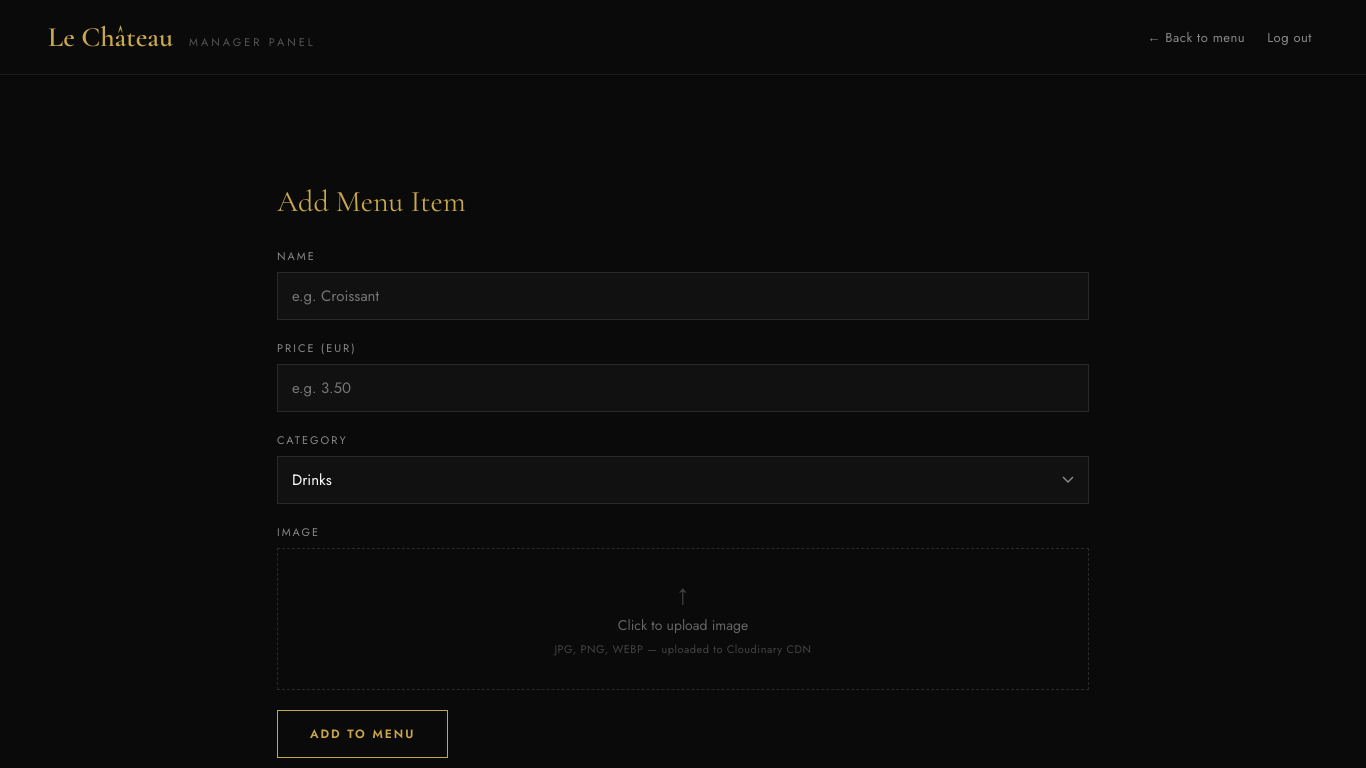
Test: AdminPage › adds new item to the list on successful POST
Expected: the heading "Add Menu Item" is shown, [277,183,466,220]
In the field with placeholder "e.g. Croissant": (683, 296) [277,272,1089,320], type "Cola"
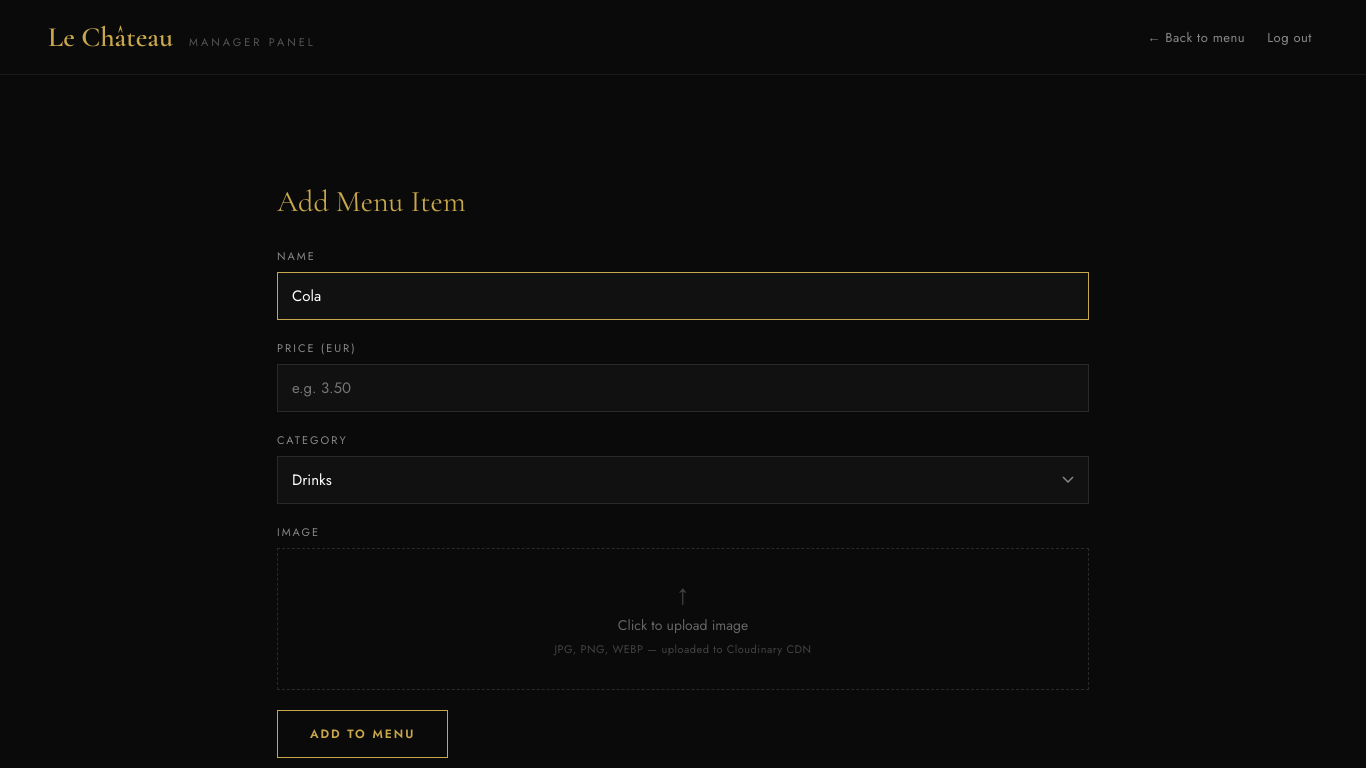
In the number field with placeholder "e.g. 3.50": (683, 388) [277,364,1089,412], type "2.50"
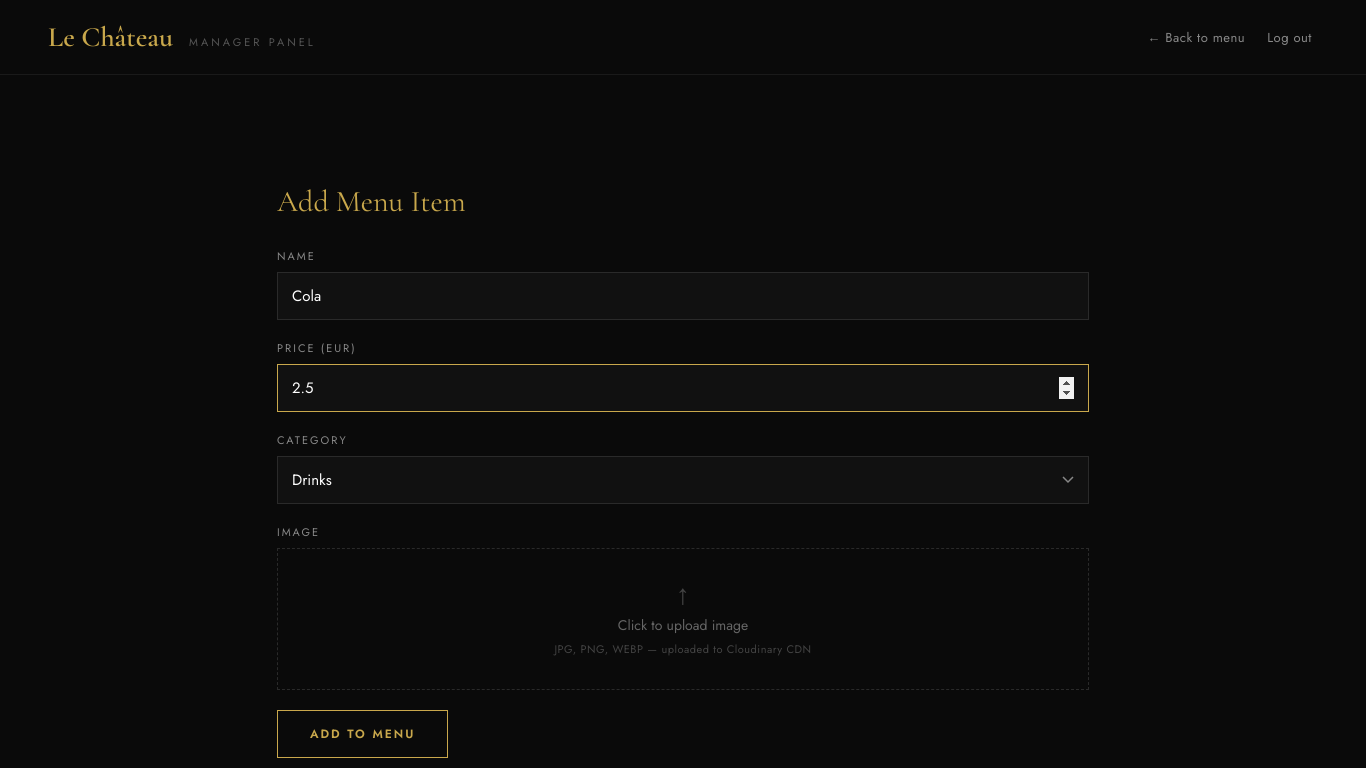
Click the button "Add to Menu": click(363, 734) [277,710,448,758]
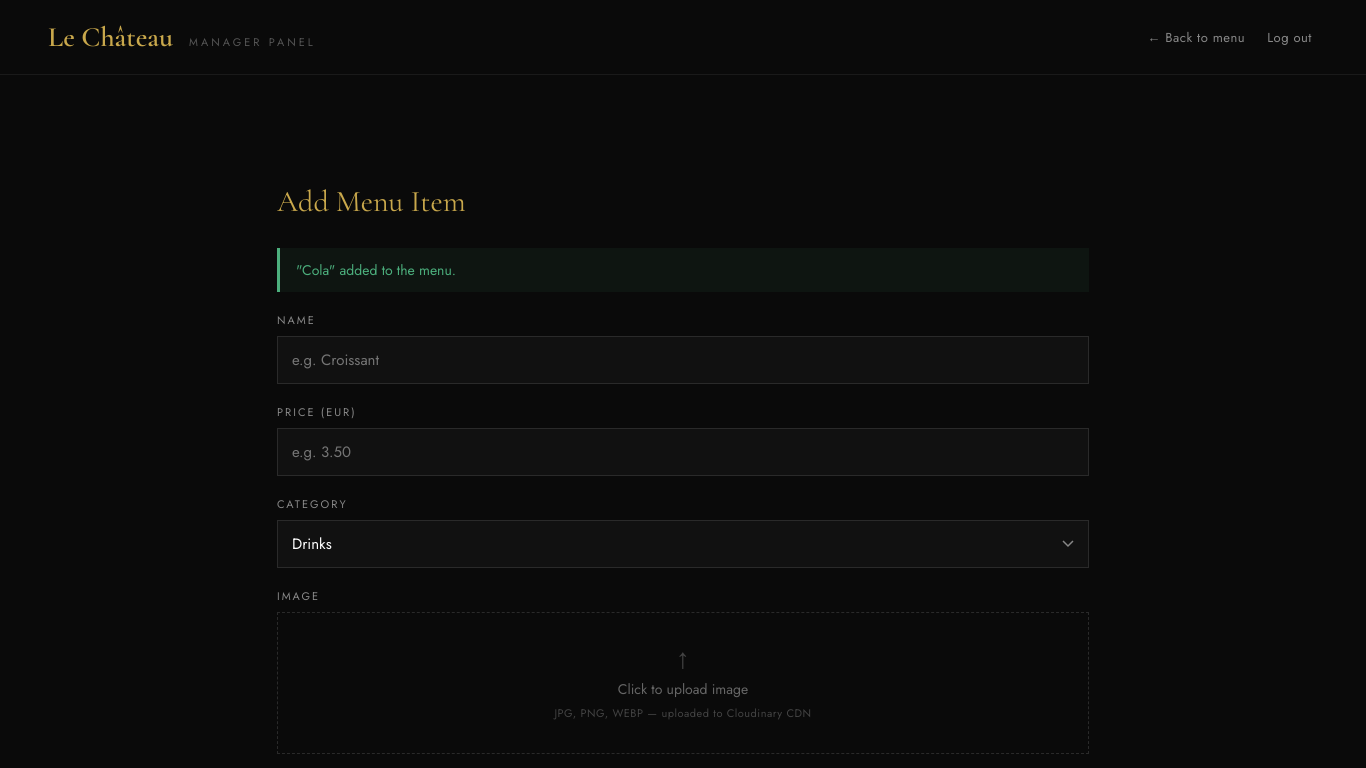
Expected: the text "\"Cola\" added to the menu." is shown, [277,248,1089,292]
